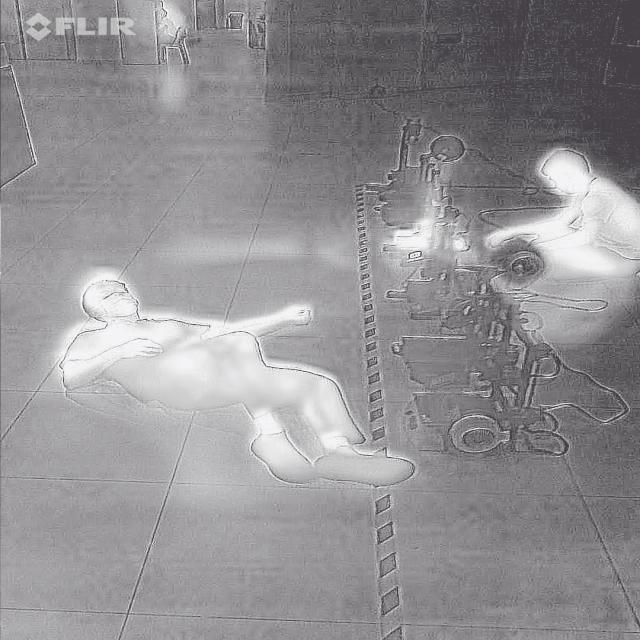Victim: (58, 266, 425, 492), (476, 146, 640, 282)
